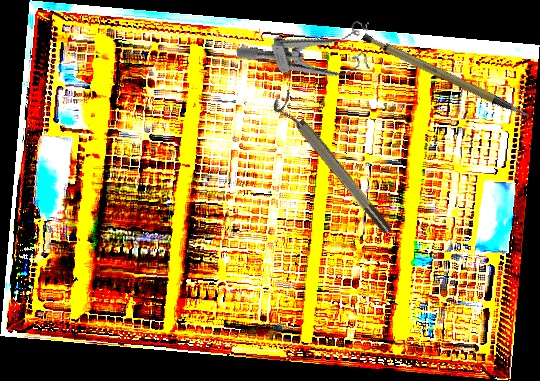Fixation Ring: (269, 89, 395, 242)
Scalpel Handle: (359, 12, 531, 144)
Speculum: (235, 9, 382, 105)
